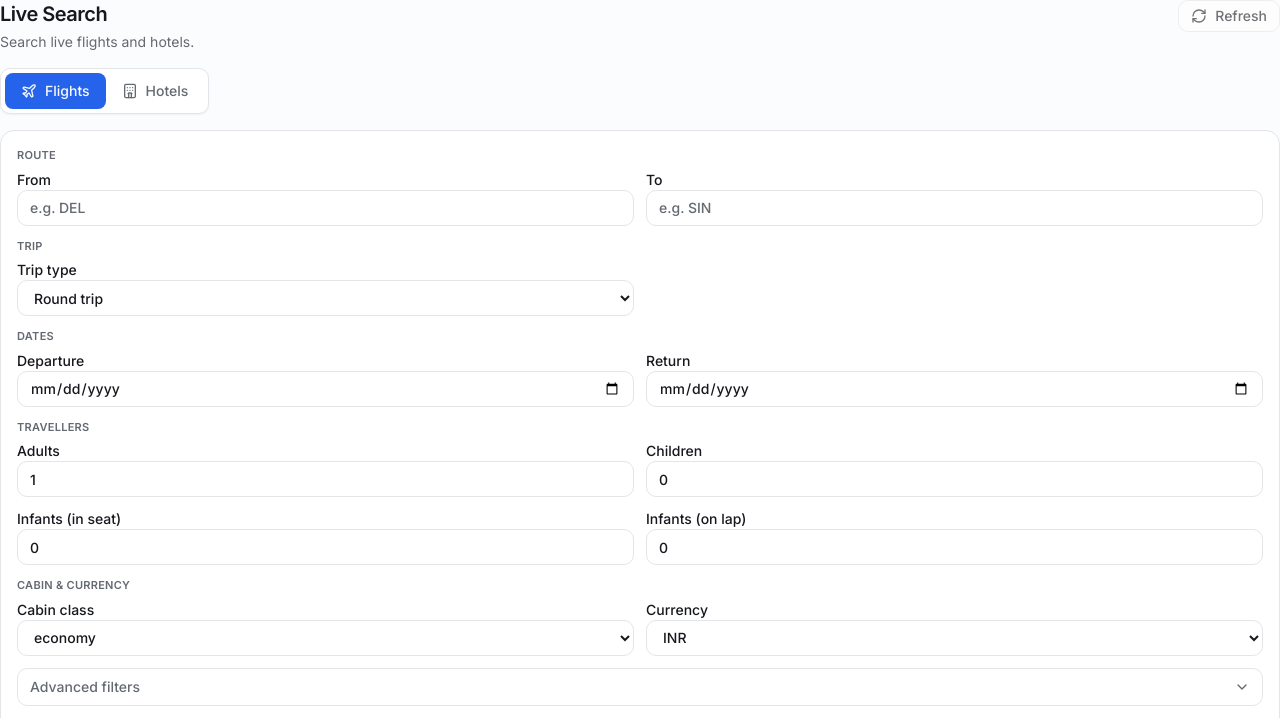
Test: TravelSearchPage › shows the destination summary and room/adult counts for hotels
Click the tab "Hotels" at (155, 91), box [106,73,204,109]
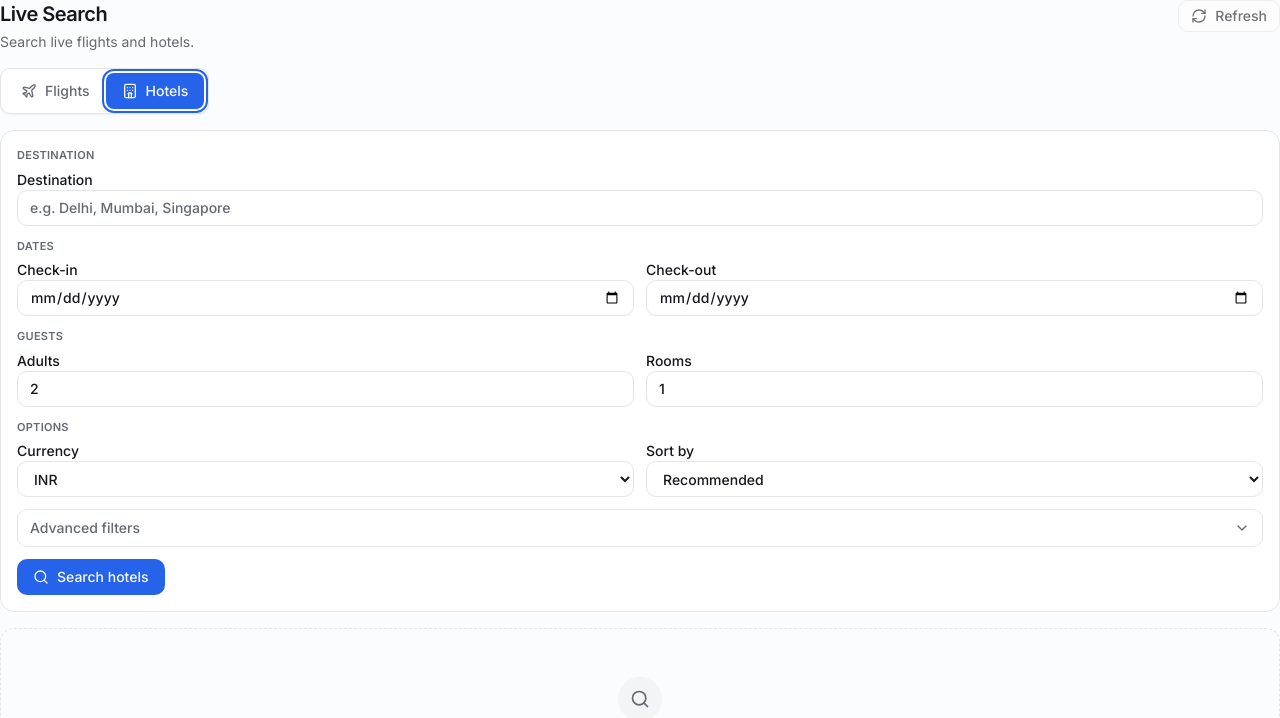
Type "Lucknow" into the field labelled "Destination" at (640, 208), box [17,190,1263,226]
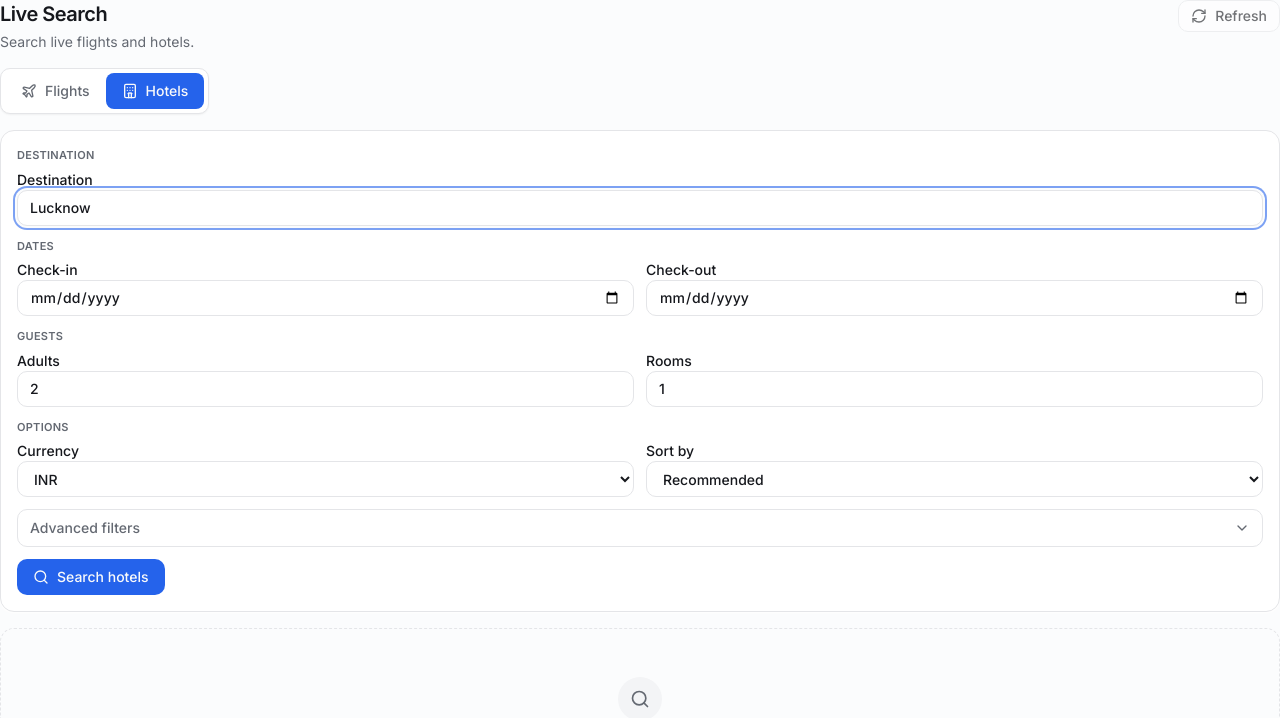
Type "2026-09-10" into the date field named "Check-in date" at (326, 298), box [17,280,634,316]
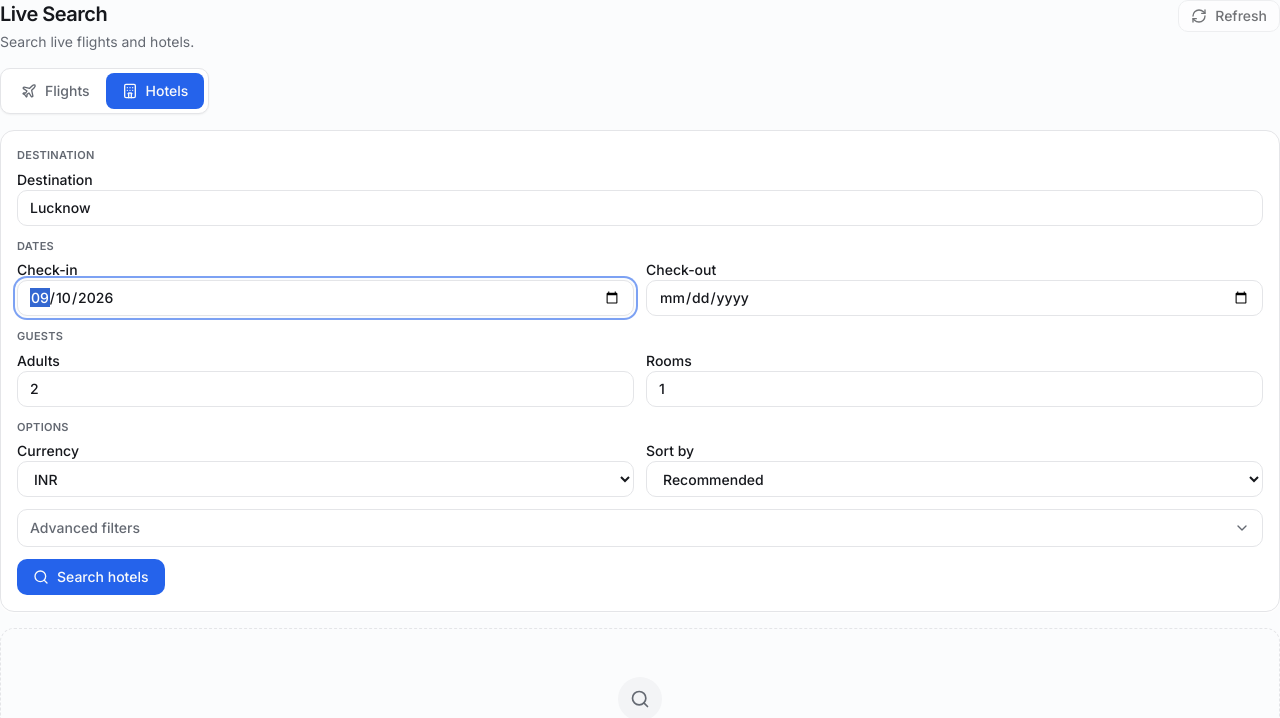
Type "2026-09-12" into the date field named "Check-out date" at (954, 298), box [646,280,1263,316]
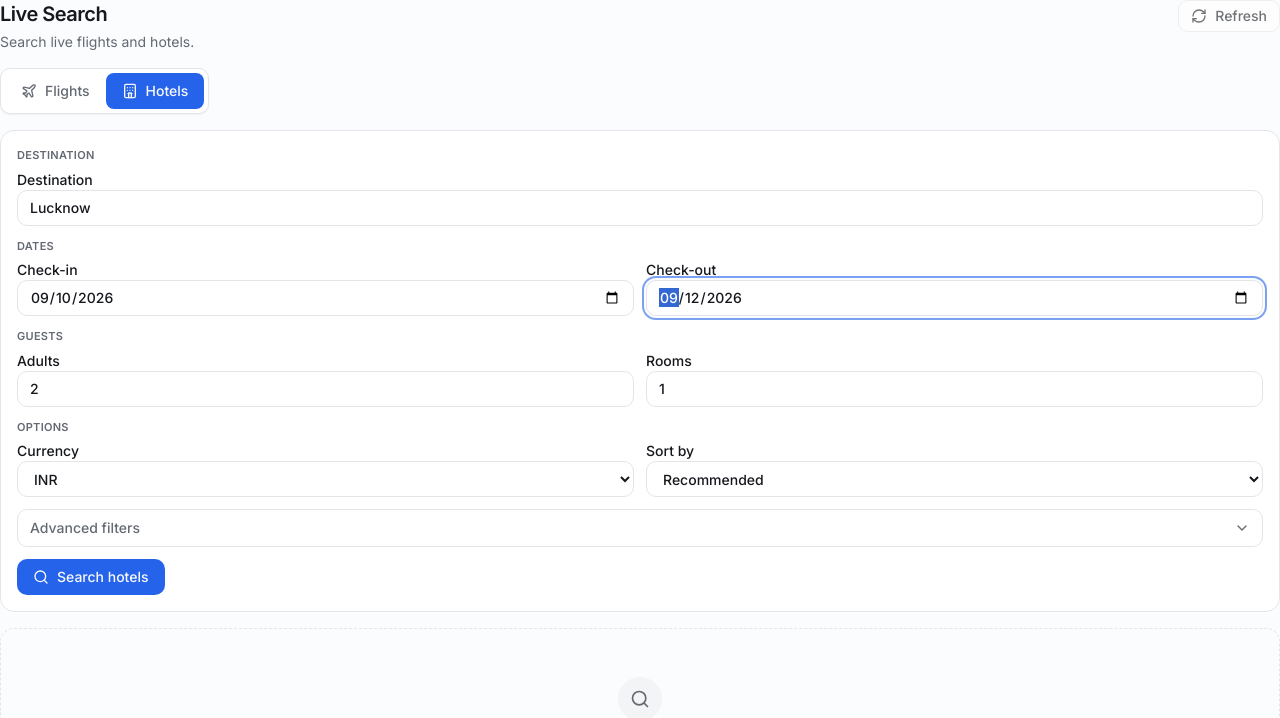
Click the button "Search hotels" at (91, 577), box [17,559,164,595]
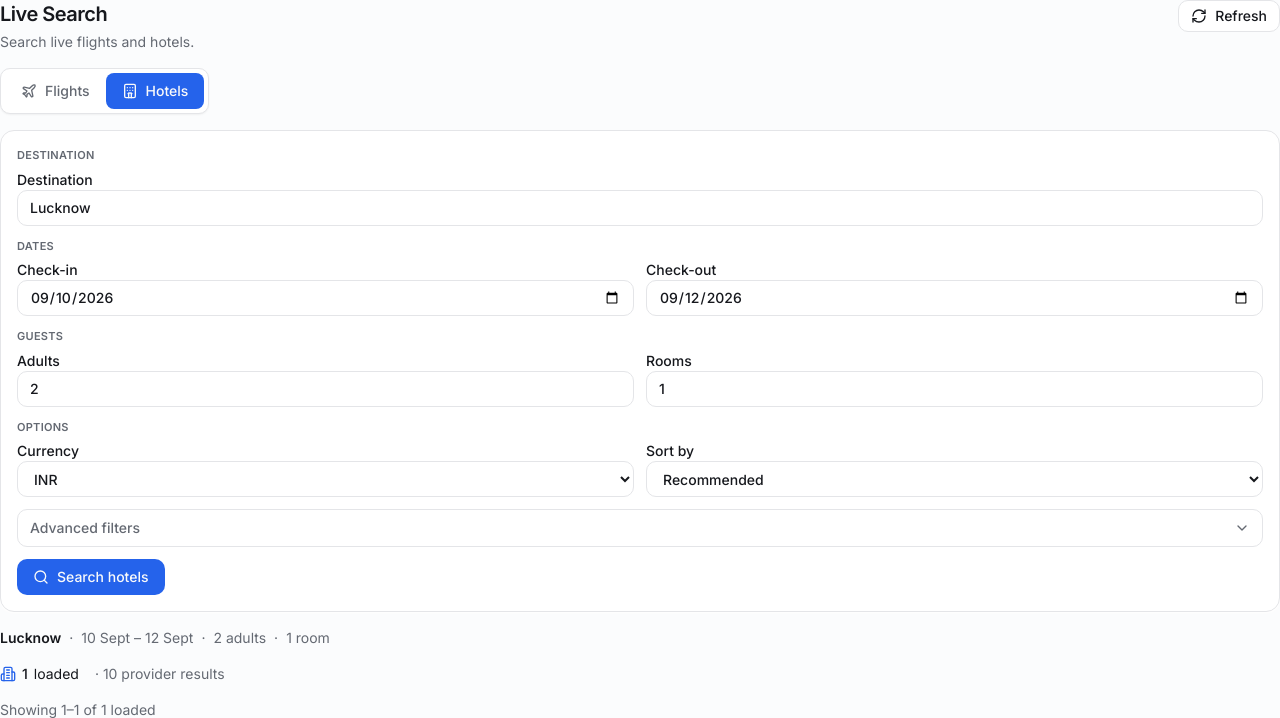
expect the text "Lucknow" is shown: met, box [0,629,61,646]
expect the text "Lucknow·10 Sept – 12 Sept·2 adults·1 room" is shown: met, box [0,629,330,646]
